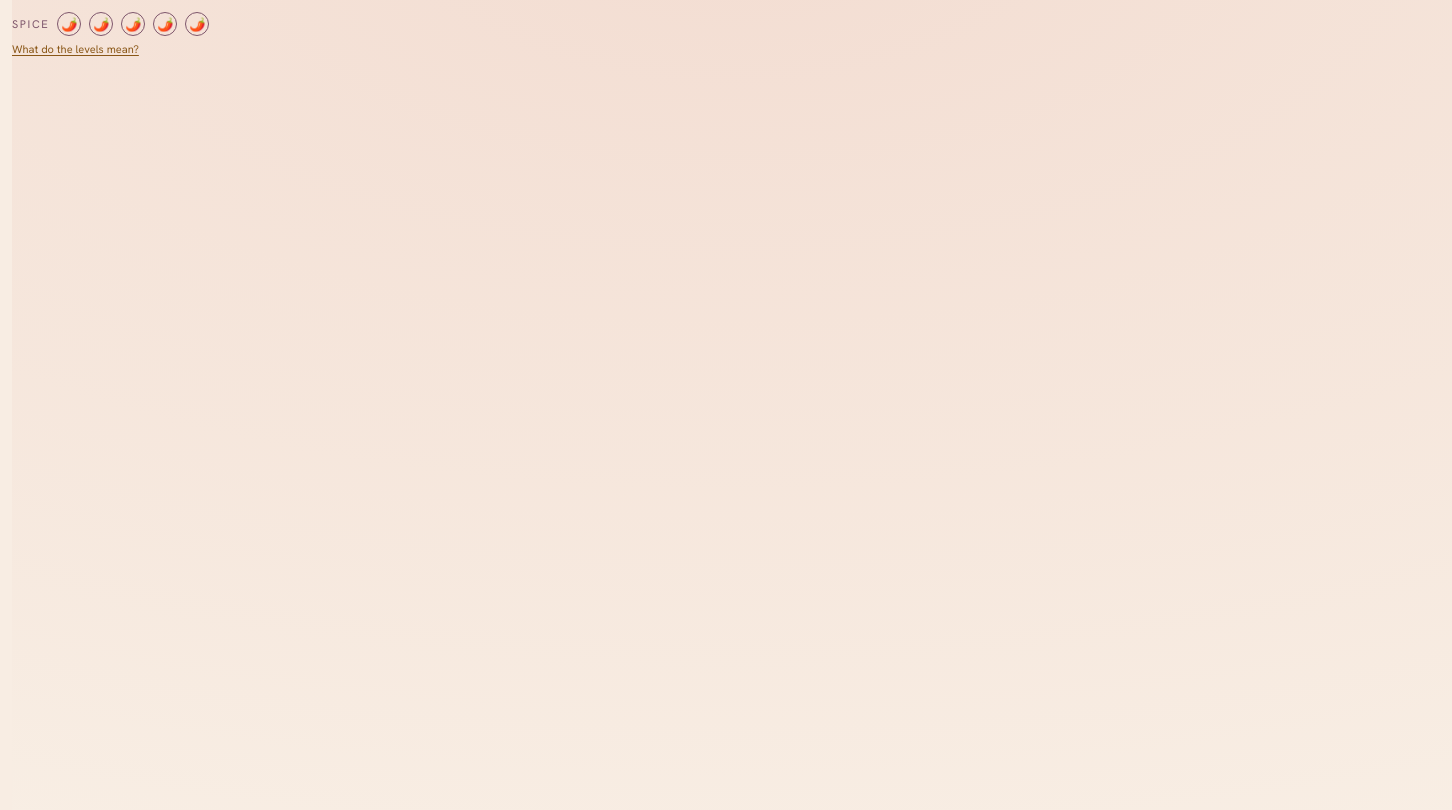
Scenario: LevelPicker — dismissal follows Modal’s conventions › a click outside closes it
This screenshot has width=1452, height=810.
Click the 3rd button "🌶️". click: (133, 24)
box: [121,12,145,36]
(page scrolled)
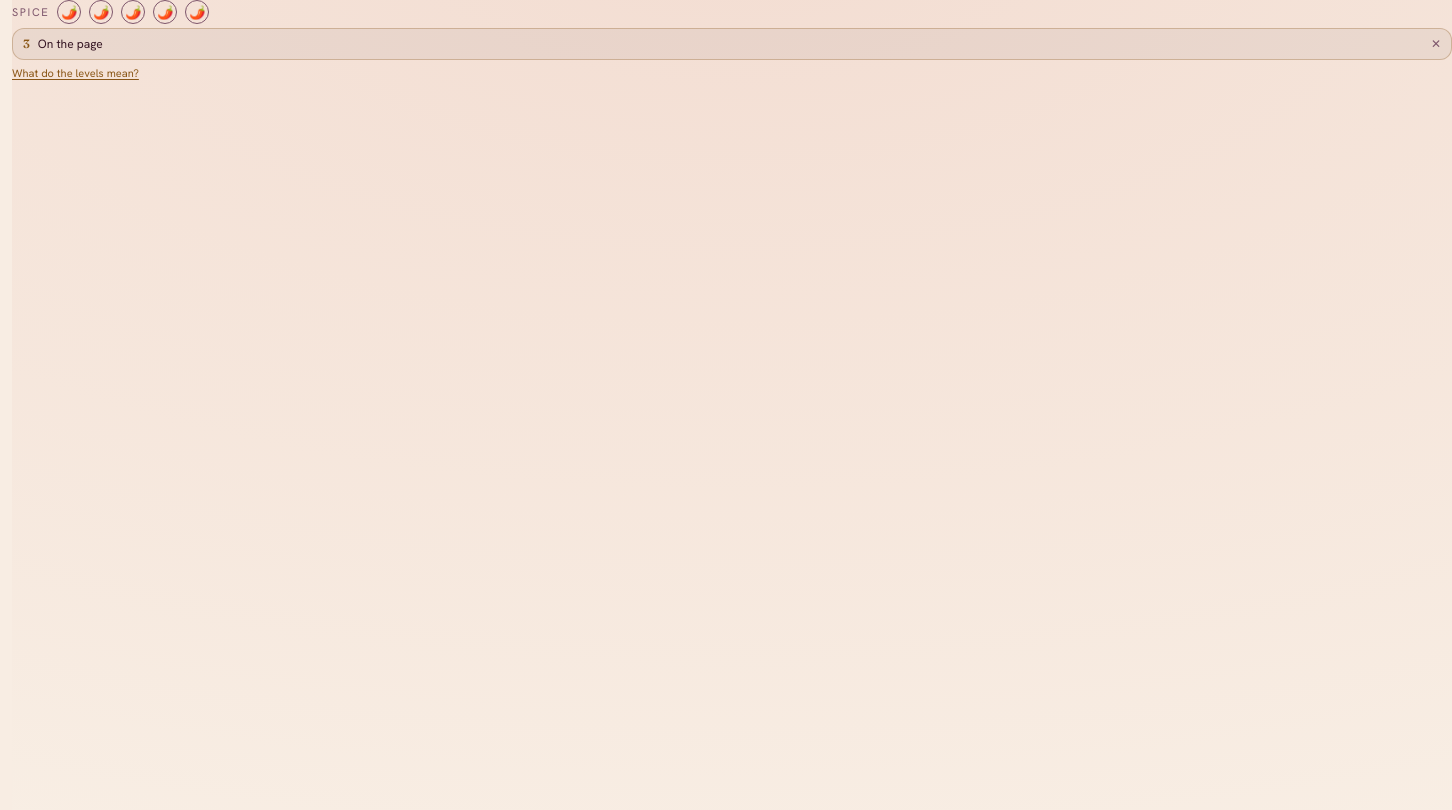
Press the mouse on the element that starts with "Spice" at (732, 405), box [12,0,1451,809]
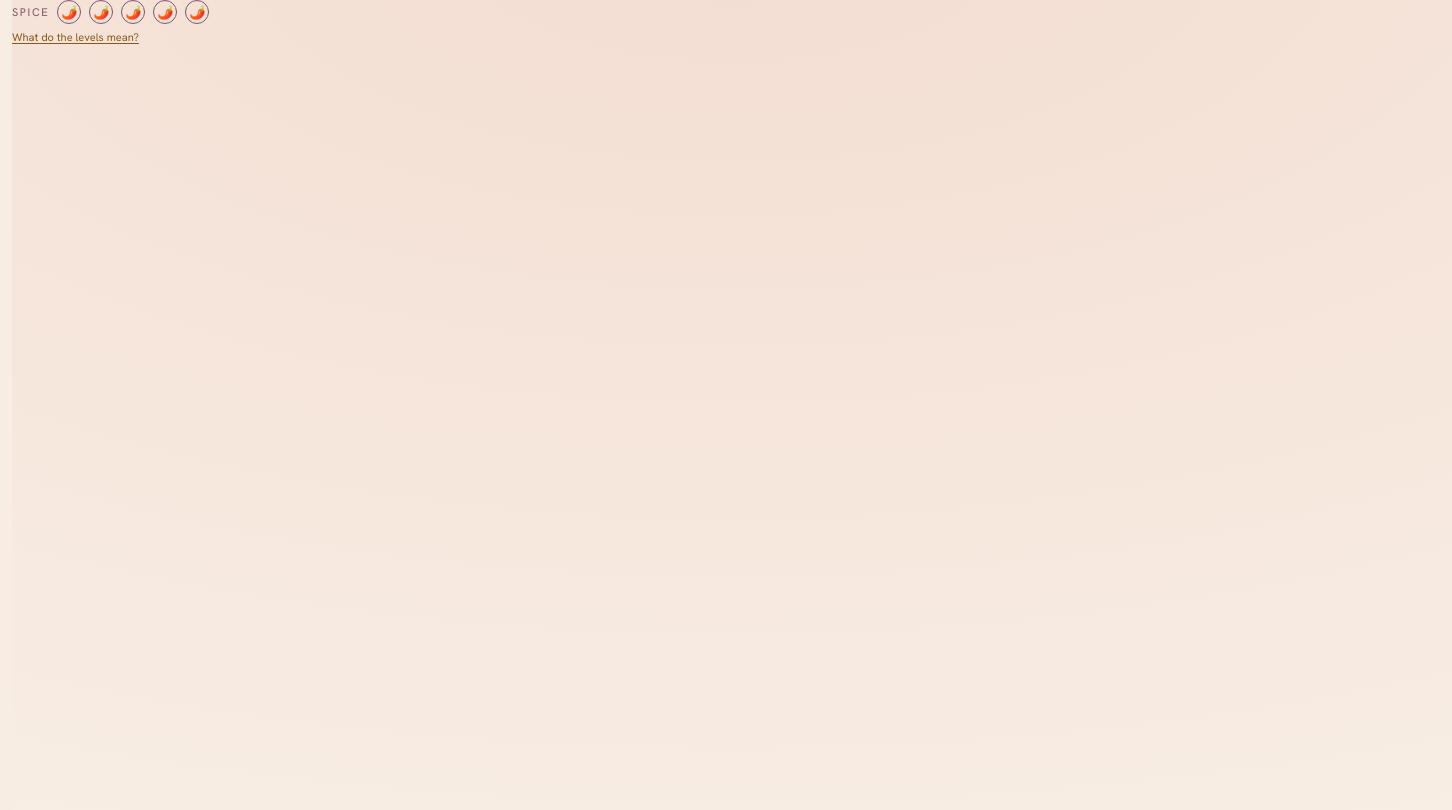
Check: the message "3 On the page ✕" is gone
